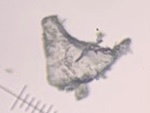microplastic: (38, 14, 134, 101)
